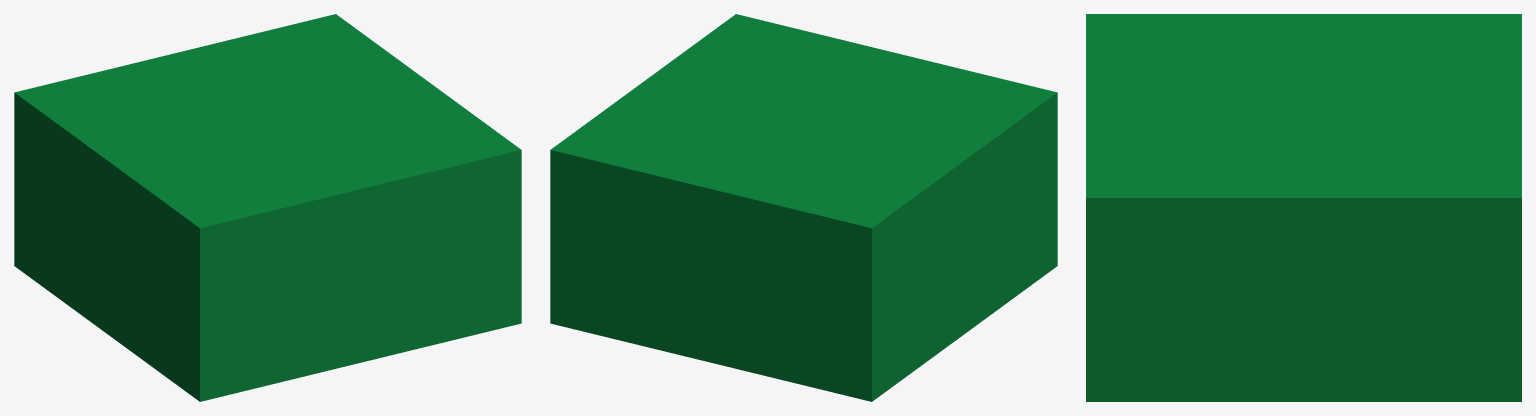
Rendered from palmtree_short.DAE.
3 views of the same model, side by side, from view 1: azimuth 30°, elevation 25°; view 2: azimuth 150°, elevation 25°; view 3: azimuth 270°, elevation 25° (orthographic). The views are drawn at different scales.
Parts seen in each view (by area): view 1: bounds; view 2: bounds; view 3: bounds.
Part boxes in pixels (x1=…): bounds: x1=14, y1=14, x2=521, y2=401; bounds: x1=550, y1=14, x2=1057, y2=401; bounds: x1=1086, y1=14, x2=1521, y2=401.
Bounding box in the file's own units: 7.75 × 7.75 × 4.12.
